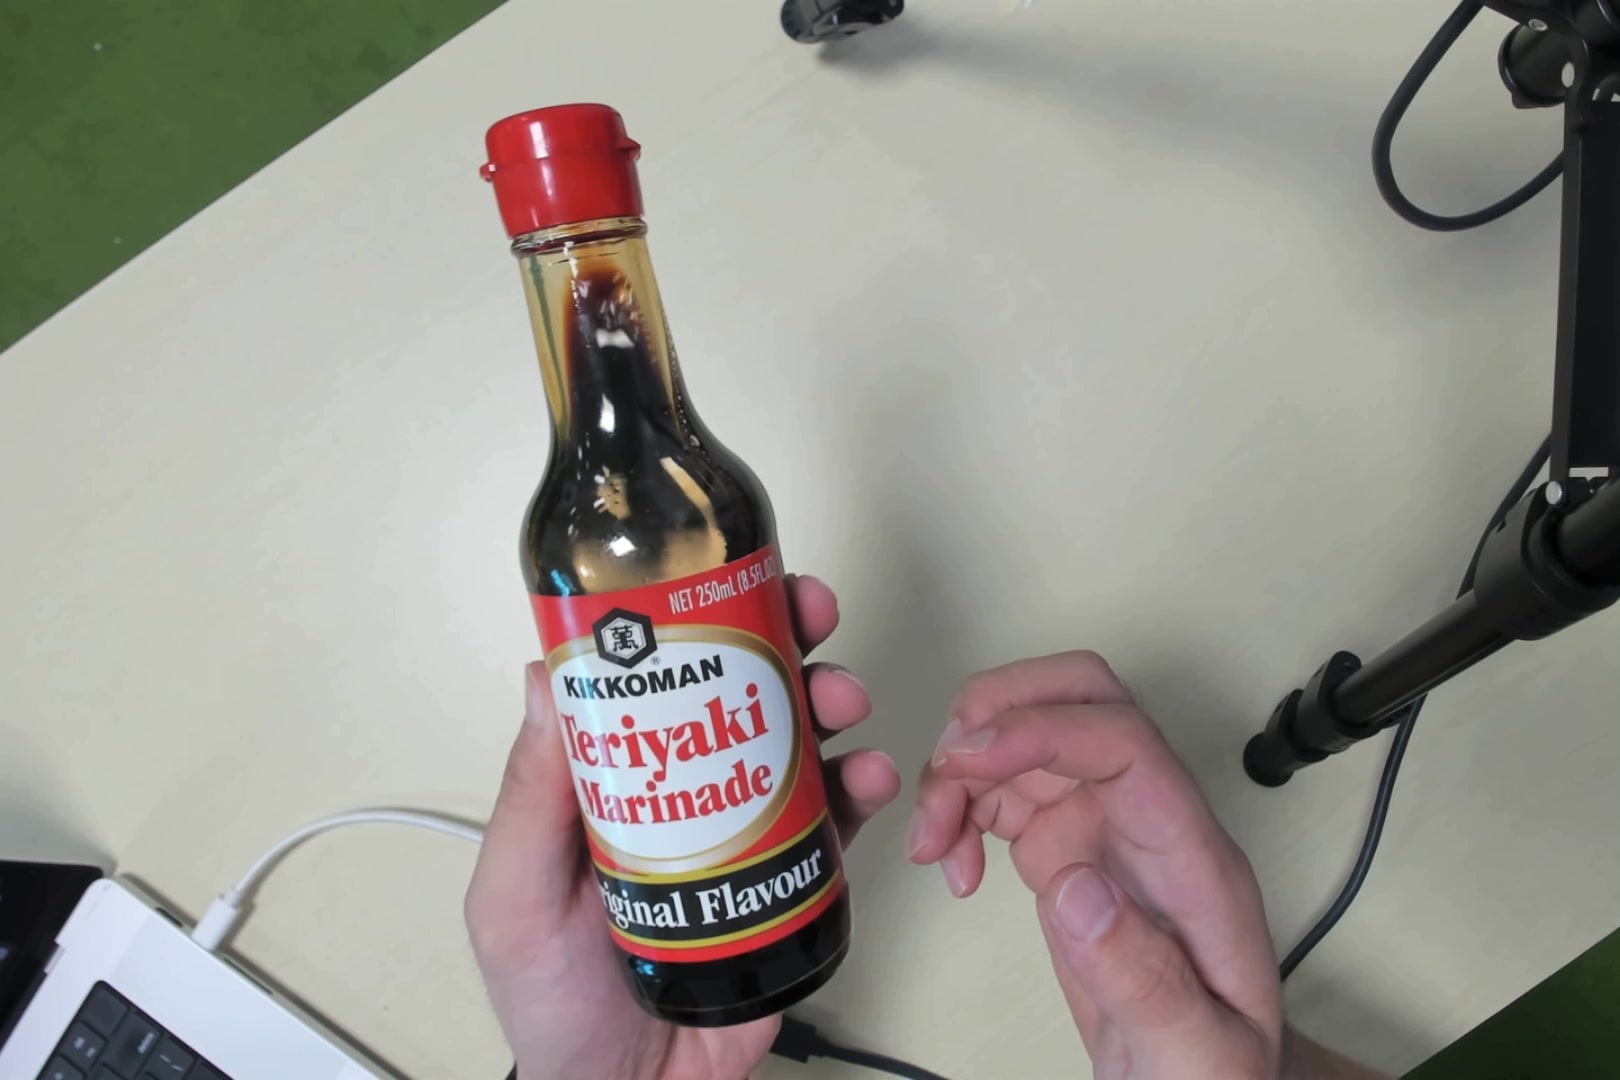OtherSauceDressingSoupbasePaste_200-299g_NonHalal_NonHealthy: (492, 92, 827, 990)
